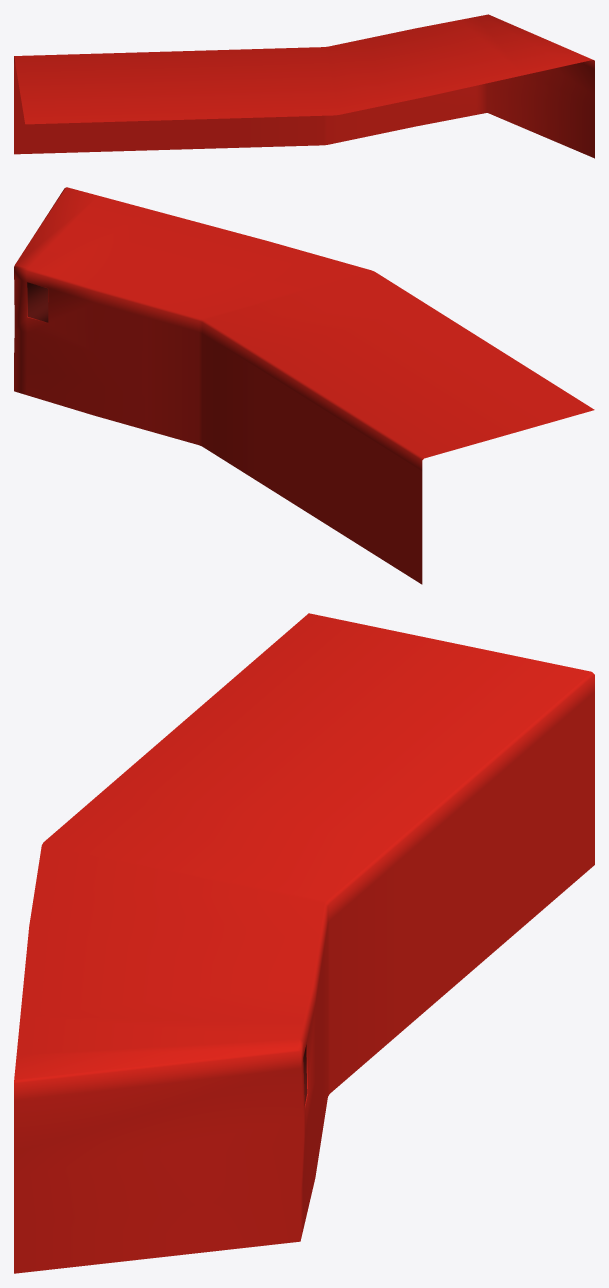
Rendered from Building_b.fbx.
The picture shows the model from 3 angles, top to bottom: view 1: azimuth 30°, elevation 25°; view 2: azimuth 150°, elevation 25°; view 3: azimuth 270°, elevation 25°; orthographic projection. The views are drawn at different scales.
Parts seen in each view (by area): view 1: Building_b; view 2: Building_b; view 3: Building_b.
Part boxes in pixels (x1=…): Building_b: x1=14, y1=14, x2=594, y2=158; Building_b: x1=14, y1=187, x2=594, y2=584; Building_b: x1=14, y1=613, x2=594, y2=1273.
Size of the model in its own units: 27.6 by 14.48 by 5.29.
